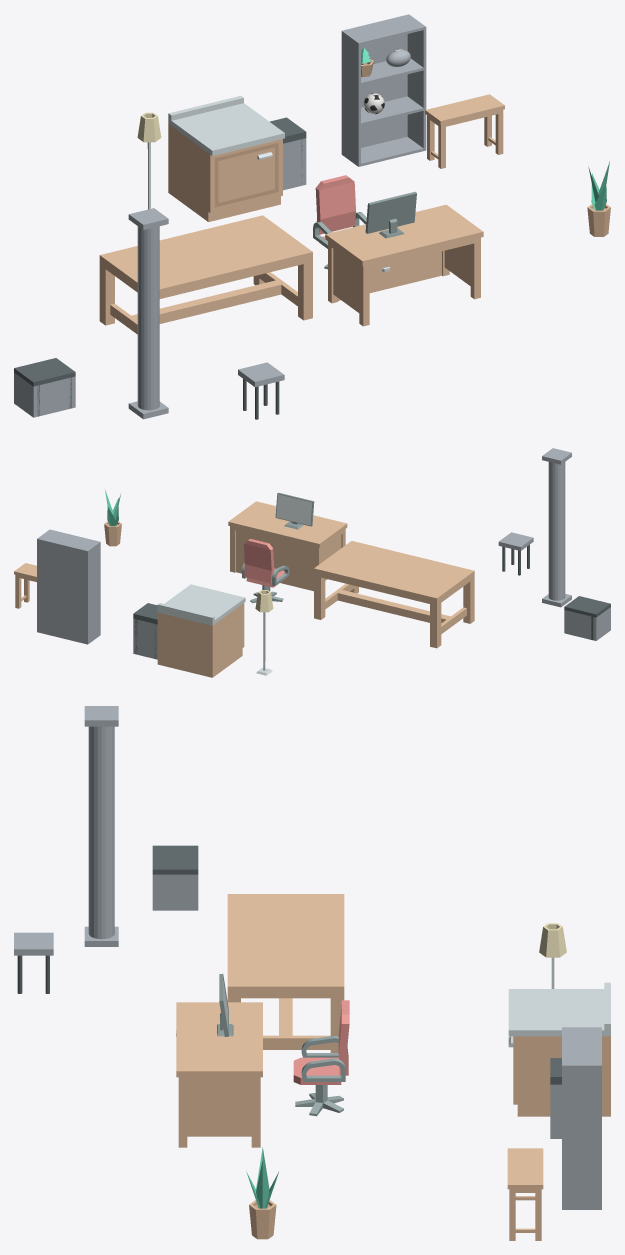
The picture shows the model from 3 angles, top to bottom: view 1: azimuth 30°, elevation 25°; view 2: azimuth 150°, elevation 25°; view 3: azimuth 270°, elevation 25°; orthographic projection. The views are drawn at different scales.
Parts seen in each view (by area): view 1: table_green__table(Clone), desk_blue__desk(Clone), cabinet_blue__kitchenCabinet(Clone), column_cyan__column_cyan shaft, cabinet_blue__door, sidetable_brown__sideTable(Clone), shelf_orange__shelf_orange back, shelf_orange__shelf_orange side_l, deskchair_black__chair, crate_red__crate_red shell, shelf_orange__shelf_orange side_r, monitor_gray__computerScreen(Clone) (+10 smaller); view 2: table_green__table(Clone), cabinet_blue__kitchenCabinet(Clone), desk_blue__desk(Clone), shelf_orange__shelf_orange back, column_cyan__column_cyan shaft, deskchair_black__chair, shelf_orange__shelf_orange side_l, crate_red__crate_red shell, monitor_gray__computerScreen(Clone), bin_gray__bin_gray shell, sidetable_brown__sideTable(Clone), lamp_white__lampRoundFloor(Clone) (+6 smaller); view 3: table_green__table(Clone), desk_blue__desk(Clone), cabinet_blue__kitchenCabinet(Clone), shelf_orange__shelf_orange side_r, column_cyan__column_cyan shaft, sidetable_brown__sideTable(Clone), deskchair_black__chair, crate_red__crate_red shell, shelf_orange__shelf_orange board3, crate_red__crate_red lid, stool_purple__stool_purple seat, lamp_white__lampRoundFloor(Clone) (+4 smaller).
Part boxes in pixels (x1=…): table_green__table(Clone): x1=99, y1=215, x2=312, y2=334; desk_blue__desk(Clone): x1=325, y1=204, x2=483, y2=326; cabinet_blue__kitchenCabinet(Clone): x1=168, y1=95, x2=284, y2=221; column_cyan__column_cyan shaft: x1=137, y1=226, x2=159, y2=410; cabinet_blue__door: x1=215, y1=143, x2=278, y2=207; sidetable_brown__sideTable(Clone): x1=425, y1=94, x2=504, y2=168; shelf_orange__shelf_orange back: x1=344, y1=15, x2=407, y2=147; shelf_orange__shelf_orange side_l: x1=341, y1=30, x2=360, y2=166; deskchair_black__chair: x1=313, y1=175, x2=366, y2=248; crate_red__crate_red shell: x1=14, y1=372, x2=75, y2=417; shelf_orange__shelf_orange side_r: x1=407, y1=14, x2=426, y2=150; monitor_gray__computerScreen(Clone): x1=365, y1=191, x2=416, y2=238; table_green__table(Clone): x1=314, y1=541, x2=474, y2=648; cabinet_blue__kitchenCabinet(Clone): x1=157, y1=584, x2=245, y2=677; desk_blue__desk(Clone): x1=228, y1=501, x2=347, y2=591; shelf_orange__shelf_orange back: x1=39, y1=539, x2=86, y2=643; column_cyan__column_cyan shaft: x1=548, y1=462, x2=565, y2=600; deskchair_black__chair: x1=242, y1=539, x2=289, y2=587; shelf_orange__shelf_orange side_l: x1=86, y1=541, x2=100, y2=644; crate_red__crate_red shell: x1=564, y1=607, x2=610, y2=640; monitor_gray__computerScreen(Clone): x1=275, y1=492, x2=314, y2=529; bin_gray__bin_gray shell: x1=133, y1=618, x2=157, y2=659; sidetable_brown__sideTable(Clone): x1=14, y1=563, x2=36, y2=608; lamp_white__lampRoundFloor(Clone): x1=255, y1=590, x2=273, y2=675; table_green__table(Clone): x1=227, y1=894, x2=344, y2=1052; desk_blue__desk(Clone): x1=176, y1=1002, x2=262, y2=1147; cabinet_blue__kitchenCabinet(Clone): x1=508, y1=982, x2=610, y2=1116; shelf_orange__shelf_orange side_r: x1=562, y1=1064, x2=601, y2=1209; column_cyan__column_cyan shaft: x1=88, y1=726, x2=114, y2=939; sidetable_brown__sideTable(Clone): x1=507, y1=1148, x2=543, y2=1240; deskchair_black__chair: x1=293, y1=1000, x2=349, y2=1084; crate_red__crate_red shell: x1=152, y1=874, x2=198, y2=910; shelf_orange__shelf_orange board3: x1=562, y1=1028, x2=599, y2=1064; crate_red__crate_red lid: x1=152, y1=845, x2=198, y2=874; stool_purple__stool_purple seat: x1=14, y1=932, x2=53, y2=955; lamp_white__lampRoundFloor(Clone): x1=539, y1=923, x2=566, y2=988.
Size of the model in its own units: 7.39 by 2.2 by 5.25.
